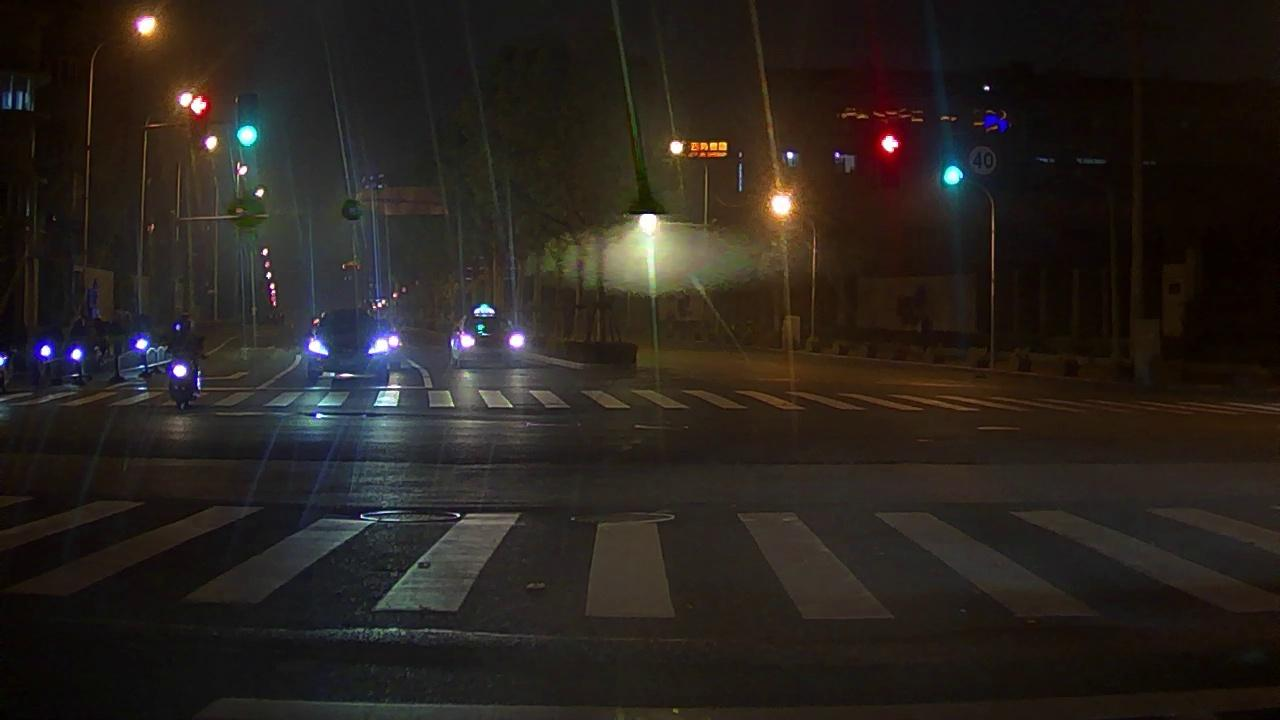traffic_light: (236, 95, 259, 148), (942, 165, 965, 187), (881, 133, 900, 155), (189, 98, 209, 113)
